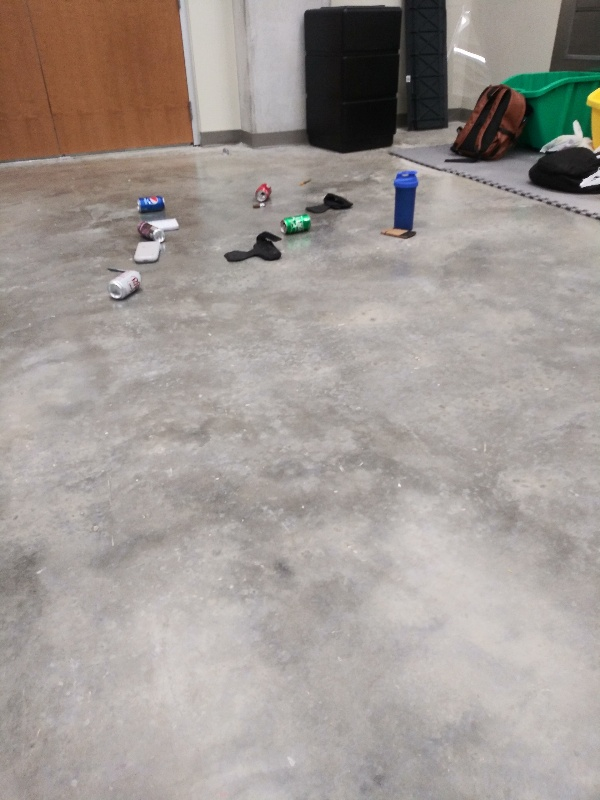can: (103, 268, 144, 302), (279, 213, 313, 237), (134, 220, 167, 243), (134, 195, 168, 214), (254, 181, 276, 203)
